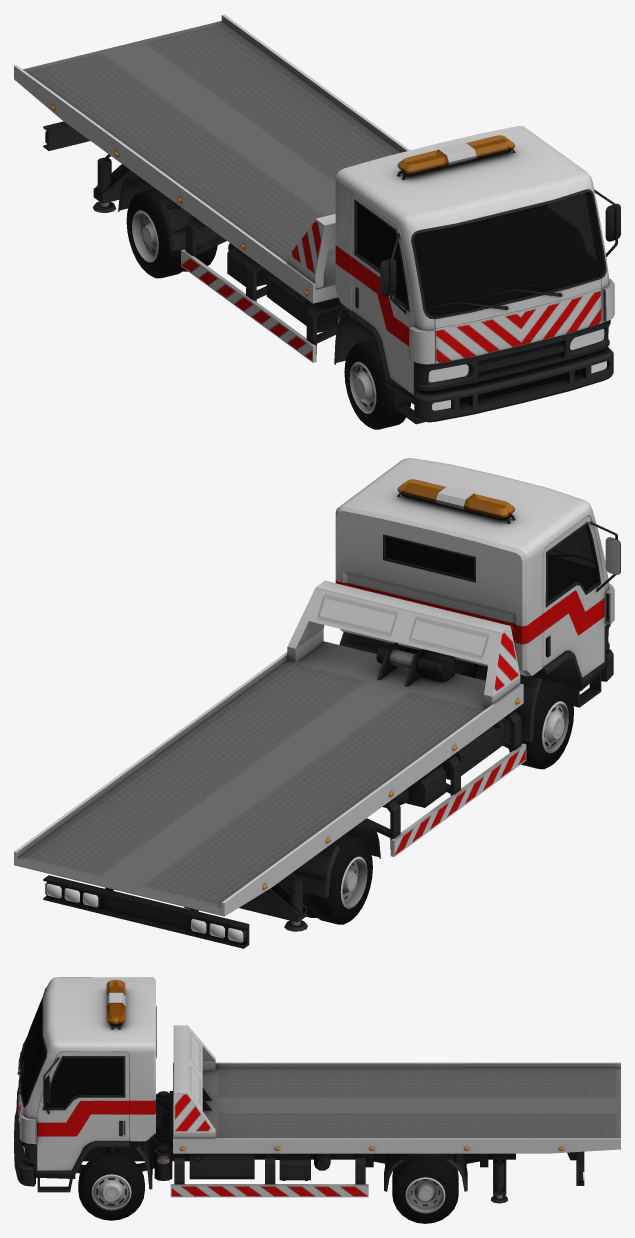
Rendered from car_service_tow.glb.
The picture shows the model from 3 angles, top to bottom: view 1: azimuth 30°, elevation 25°; view 2: azimuth 150°, elevation 25°; view 3: azimuth 270°, elevation 25°; orthographic projection. The views are drawn at different scales.
Parts seen in each view (by area): view 1: Body, Glass, WheelRR, WheelFR, Headlights, Glass1; view 2: Body, Glass, WheelRR, WheelFR, Glass1, Reverselights; view 3: Body, Glass, WheelRL, WheelFL, Glass1.
Part boxes in pixels (bbox=[...]): Body: bbox=[14, 14, 620, 424]; Glass: bbox=[357, 192, 603, 316]; WheelRR: bbox=[126, 188, 217, 278]; WheelFR: bbox=[344, 339, 410, 429]; Headlights: bbox=[405, 142, 606, 410]; Glass1: bbox=[397, 135, 514, 174]; Body: bbox=[14, 458, 620, 948]; Glass: bbox=[386, 526, 597, 601]; WheelRR: bbox=[285, 834, 372, 924]; WheelFR: bbox=[509, 678, 573, 769]; Glass1: bbox=[397, 479, 514, 518]; Reverselights: bbox=[46, 883, 243, 942]; Body: bbox=[14, 977, 620, 1203]; Glass: bbox=[21, 1000, 122, 1107]; WheelRL: bbox=[373, 1153, 479, 1223]; WheelFL: bbox=[76, 1153, 154, 1220]; Glass1: bbox=[106, 979, 125, 1024].
Bounding box in the file's own units: 2.47 × 2.48 × 7.2.
Materials: 6 (3 with a texture image).
